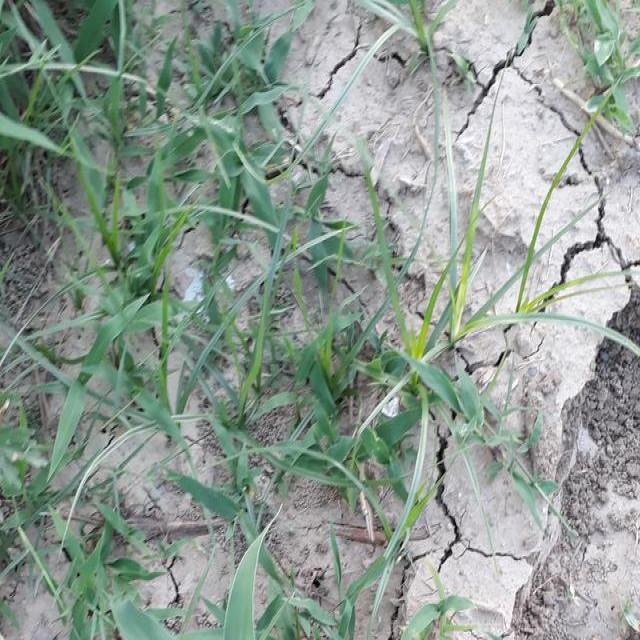weed: (0, 7, 289, 640), (298, 272, 462, 510)
